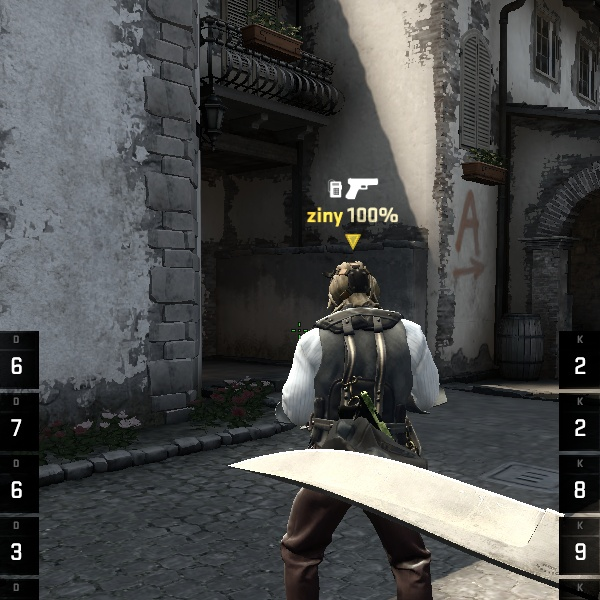ct_head: (314, 253, 388, 324)
t_body: (262, 252, 445, 575)
t_head: (314, 253, 388, 324)
